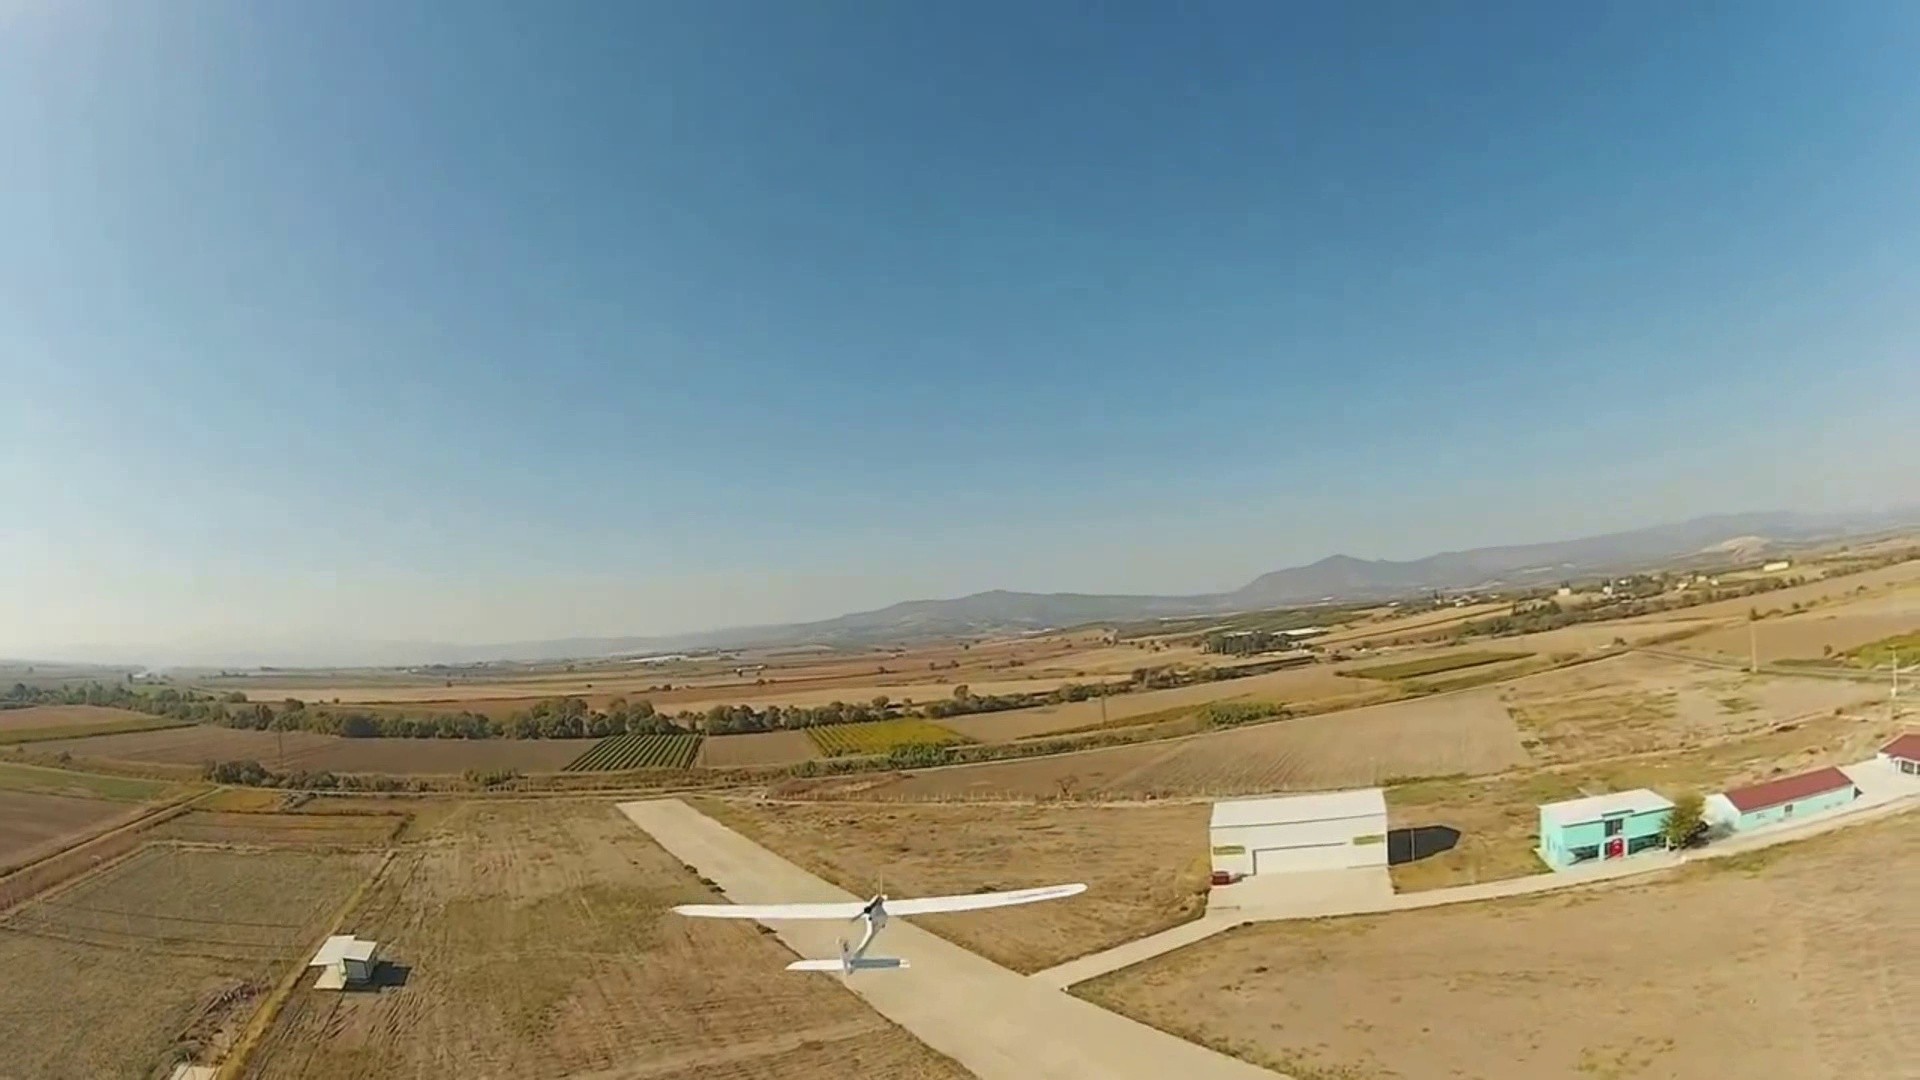airplane: (618, 793, 1087, 975)
